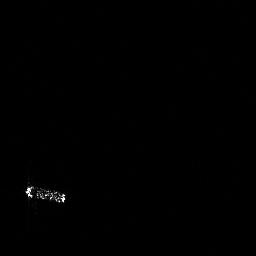ship: (22, 180, 68, 208)
